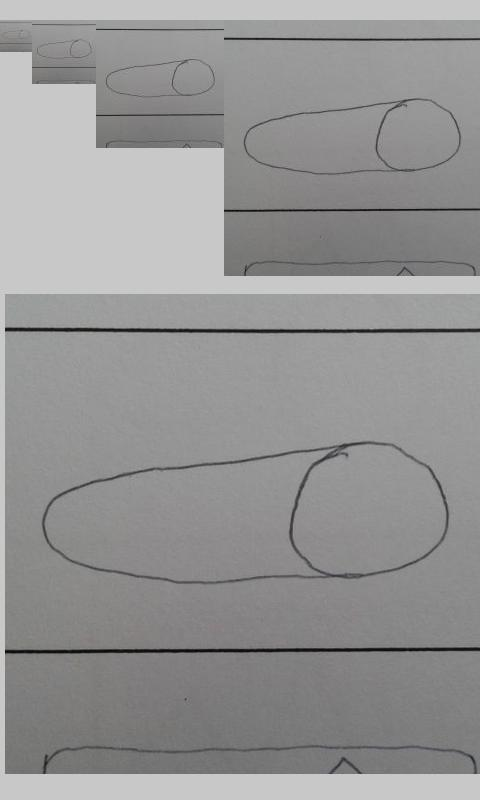switch: (41, 440, 450, 585), (243, 98, 463, 175), (105, 58, 216, 98), (36, 38, 93, 60), (1, 29, 32, 40)
